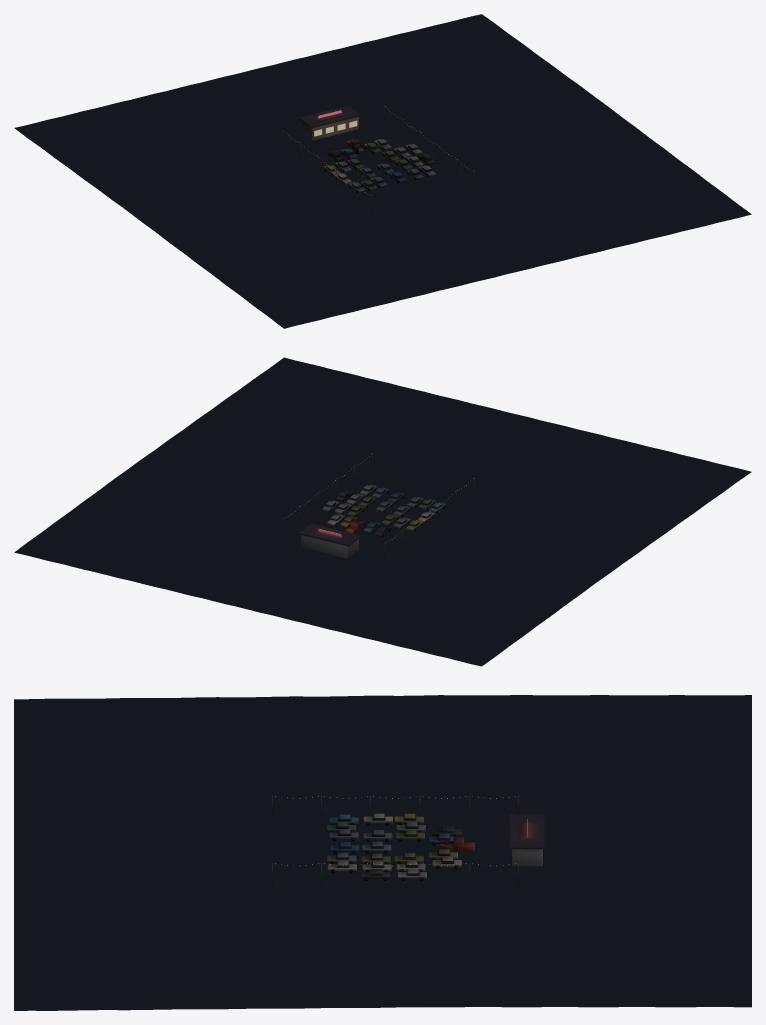
The model's file is drivein.glb.
3 renders of one model, top to bottom at view 1: azimuth 30°, elevation 25°; view 2: azimuth 150°, elevation 25°; view 3: azimuth 270°, elevation 25°, orthographic. The views are drawn at different scales.
Parts seen in each view (by area): view 1: ground, things; view 2: ground, things; view 3: ground, things.
Boxes of the visible parts, left/top/right/bottom form: ground: left=14, top=14, right=751, bottom=328; things: left=282, top=105, right=474, bottom=211; ground: left=14, top=357, right=751, bottom=666; things: left=282, top=452, right=474, bottom=558; ground: left=14, top=695, right=751, bottom=1010; things: left=272, top=795, right=544, bottom=884.
Size of the model in its own units: 120 by 5.13 by 120.
Materials: 5 (2 with a texture image).
